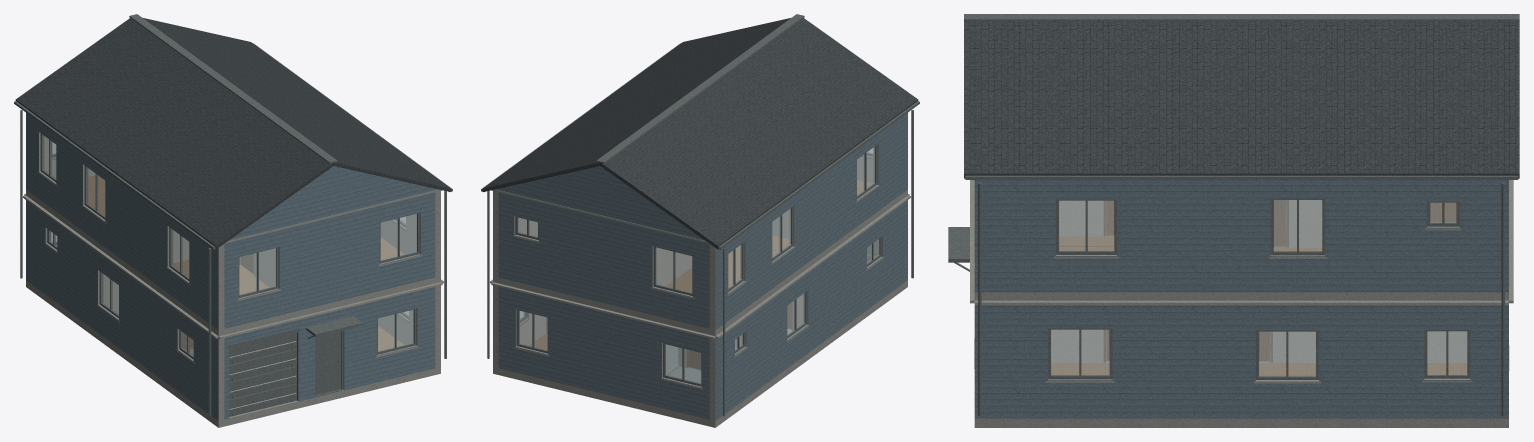
Rendered from PZ_Suburban_House_8x12_Complete.glb.
3 views of the same model, side by side, from view 1: azimuth 30°, elevation 25°; view 2: azimuth 150°, elevation 25°; view 3: azimuth 270°, elevation 25° (orthographic). The views are drawn at different scales.
Parts seen in each view (by area): view 1: 2286_ROOF_LEFT_Detachable_Pitch, 2287_ROOF_RIGHT_Detachable_Pitch, 2288_FrontGable_PlasterTriangle, MOD_U_ExtFront_2mCell+00_ExteriorSiding, MOD_U_ExtFront_2mCell-01_ExteriorSiding, 0001_Foundation_ReinforcedSlab_8x12m, MOD_G_ExtFront_2mCell+00_ExteriorSiding, MOD_G_ExtFront_2mCell+01_ExteriorSiding, MOD_U_ExtFront_2mCell+01_ExteriorSiding, MOD_U_ExtFront_2mCell-02_ExteriorSiding, MOD_G_ExtWest_2mCell+04_ExteriorSiding, MOD_G_ExtWest_2mCell+02_ExteriorSiding (+42 smaller); view 2: 2286_ROOF_LEFT_Detachable_Pitch, 2287_ROOF_RIGHT_Detachable_Pitch, 2289_RearGable_PlasterTriangle, MOD_U_ExtRear_2mCell+00_ExteriorSiding, MOD_G_ExtRear_2mCell+00_ExteriorSiding, MOD_G_ExtRear_2mCell-01_ExteriorSiding, MOD_U_ExtRear_2mCell-01_ExteriorSiding, MOD_U_ExtRear_2mCell+01_ExteriorSiding, 0001_Foundation_ReinforcedSlab_8x12m, MOD_G_ExtRear_2mCell+01_ExteriorSiding, MOD_U_ExtRear_2mCell-02_ExteriorSiding, MOD_G_ExtRear_2mCell-02_ExteriorSiding (+34 smaller); view 3: 2287_ROOF_RIGHT_Detachable_Pitch, MOD_G_ExtEast_2mCell+02_ExteriorSiding, MOD_U_ExtEast_2mCell+02_ExteriorSiding, MOD_G_ExtEast_2mCell+04_ExteriorSiding, MOD_U_ExtEast_2mCell+04_ExteriorSiding, MOD_U_ExtEast_2mCell+00_ExteriorSiding, MOD_G_ExtEast_2mCell+00_ExteriorSiding, MOD_U_ExtEast_2mCell+05_ExteriorSiding, MOD_G_ExtEast_2mCell+01_ExteriorSiding, MOD_G_ExtEast_2mCell+05_ExteriorSiding, MOD_U_ExtEast_2mCell+01_ExteriorSiding, MOD_G_ExtEast_2mCell+03_ExteriorSiding (+31 smaller).
Boxes of the visible parts, box(x1,y1,x2,y2) form: 2286_ROOF_LEFT_Detachable_Pitch: box(15, 18, 333, 249); 2287_ROOF_RIGHT_Detachable_Pitch: box(143, 18, 451, 191); 2288_FrontGable_PlasterTriangle: box(229, 166, 438, 240); MOD_U_ExtFront_2mCell+00_ExteriorSiding: box(329, 204, 385, 302); MOD_U_ExtFront_2mCell-01_ExteriorSiding: box(274, 218, 329, 316); 0001_Foundation_ReinforcedSlab_8x12m: box(26, 280, 440, 427); MOD_G_ExtFront_2mCell+00_ExteriorSiding: box(329, 299, 385, 390); MOD_G_ExtFront_2mCell+01_ExteriorSiding: box(385, 287, 435, 380); MOD_U_ExtFront_2mCell+01_ExteriorSiding: box(385, 192, 435, 289); MOD_U_ExtFront_2mCell-02_ExteriorSiding: box(224, 232, 274, 328); MOD_G_ExtWest_2mCell+04_ExteriorSiding: box(58, 223, 90, 326); MOD_G_ExtWest_2mCell+02_ExteriorSiding: box(122, 271, 154, 373); 2286_ROOF_LEFT_Detachable_Pitch: box(600, 18, 918, 249); 2287_ROOF_RIGHT_Detachable_Pitch: box(482, 18, 790, 191); 2289_RearGable_PlasterTriangle: box(495, 166, 704, 240); MOD_U_ExtRear_2mCell+00_ExteriorSiding: box(548, 204, 604, 302); MOD_G_ExtRear_2mCell+00_ExteriorSiding: box(548, 299, 604, 393); MOD_G_ExtRear_2mCell-01_ExteriorSiding: box(604, 312, 659, 407); MOD_U_ExtRear_2mCell-01_ExteriorSiding: box(604, 218, 659, 316); MOD_U_ExtRear_2mCell+01_ExteriorSiding: box(498, 192, 548, 289); 0001_Foundation_ReinforcedSlab_8x12m: box(493, 280, 907, 427); MOD_G_ExtRear_2mCell+01_ExteriorSiding: box(498, 287, 548, 380); MOD_U_ExtRear_2mCell-02_ExteriorSiding: box(659, 232, 709, 328); MOD_G_ExtRear_2mCell-02_ExteriorSiding: box(659, 326, 709, 419); 2287_ROOF_RIGHT_Detachable_Pitch: box(964, 21, 1519, 178); MOD_G_ExtEast_2mCell+02_ExteriorSiding: box(1152, 305, 1241, 418); MOD_U_ExtEast_2mCell+02_ExteriorSiding: box(1152, 180, 1241, 292); MOD_G_ExtEast_2mCell+04_ExteriorSiding: box(1331, 305, 1419, 418); MOD_U_ExtEast_2mCell+04_ExteriorSiding: box(1331, 180, 1419, 292); MOD_U_ExtEast_2mCell+00_ExteriorSiding: box(974, 180, 1063, 292); MOD_G_ExtEast_2mCell+00_ExteriorSiding: box(974, 305, 1063, 418); MOD_U_ExtEast_2mCell+05_ExteriorSiding: box(1420, 180, 1508, 292); MOD_G_ExtEast_2mCell+01_ExteriorSiding: box(1063, 305, 1152, 418); MOD_G_ExtEast_2mCell+05_ExteriorSiding: box(1420, 305, 1508, 418); MOD_U_ExtEast_2mCell+01_ExteriorSiding: box(1063, 180, 1152, 292); MOD_G_ExtEast_2mCell+03_ExteriorSiding: box(1241, 305, 1330, 418).
Size of the model in its own units: 8.61 by 8.33 by 12.83.
Materials: 9 (8 with a texture image).
